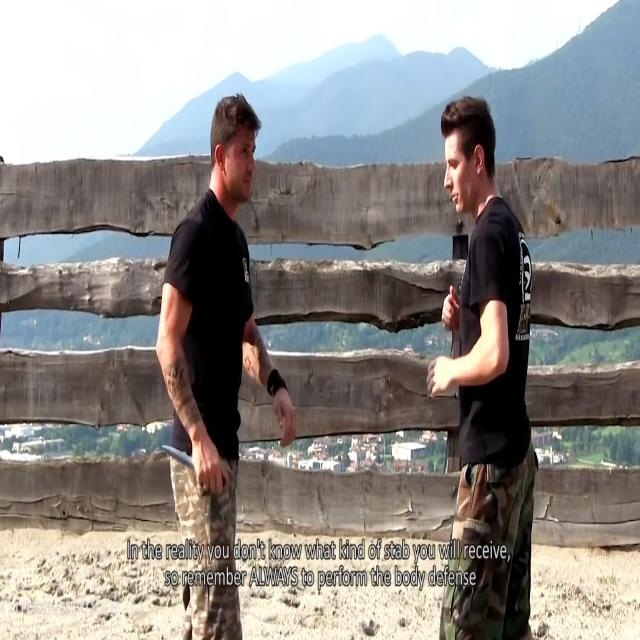knife: (164, 440, 195, 472)
